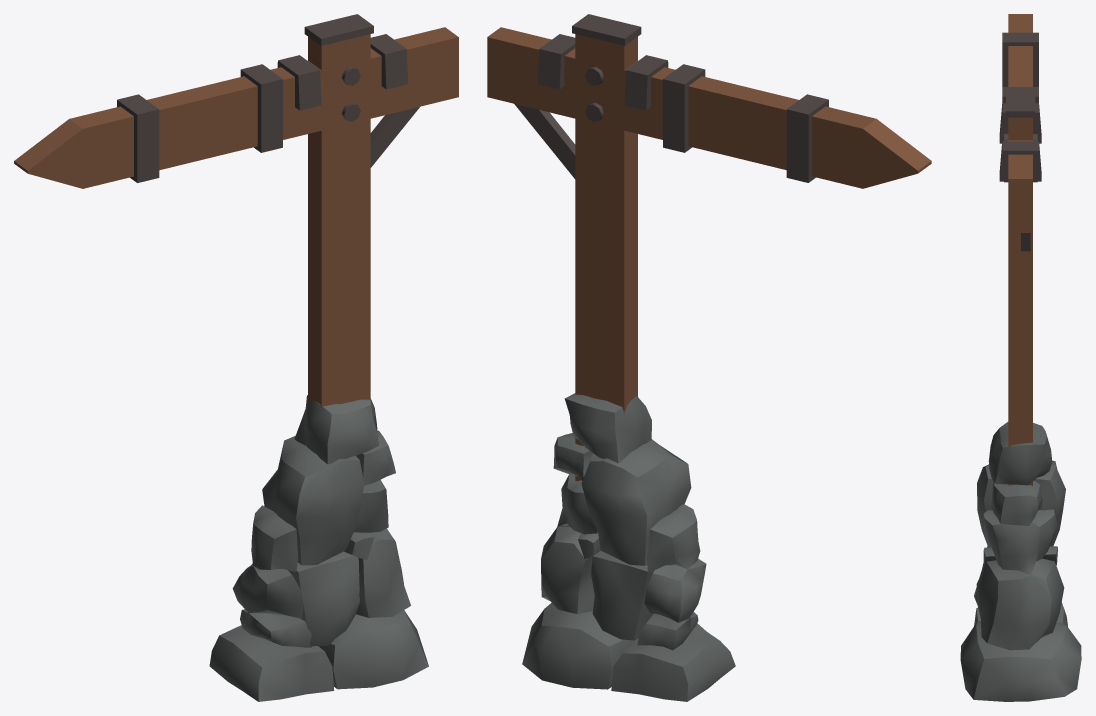
Rendered from Pointer.fbx.
The picture shows the model from 3 angles, left to right: view 1: azimuth 30°, elevation 25°; view 2: azimuth 150°, elevation 25°; view 3: azimuth 270°, elevation 25°; orthographic projection. The views are drawn at different scales.
Visible parts, largest first — view 1: Box002; view 2: Box002; view 3: Box002.
Boxes of the visible parts, bbox=[...] form: Box002: bbox=[14, 14, 458, 701]; Box002: bbox=[487, 14, 931, 701]; Box002: bbox=[960, 14, 1081, 701].
Size of the model in its own units: 119 by 168 by 32.06.
